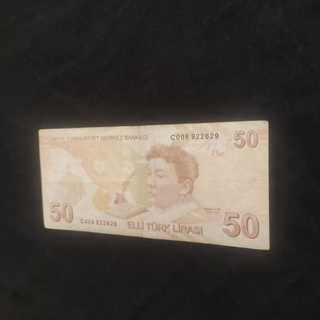50TLBack: (38, 119, 271, 251)
